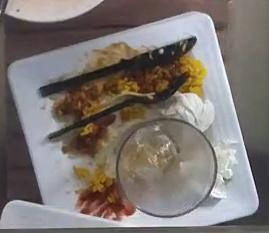rice: (178, 53, 205, 95)
rice_mix: (65, 64, 179, 103), (64, 114, 116, 192)
